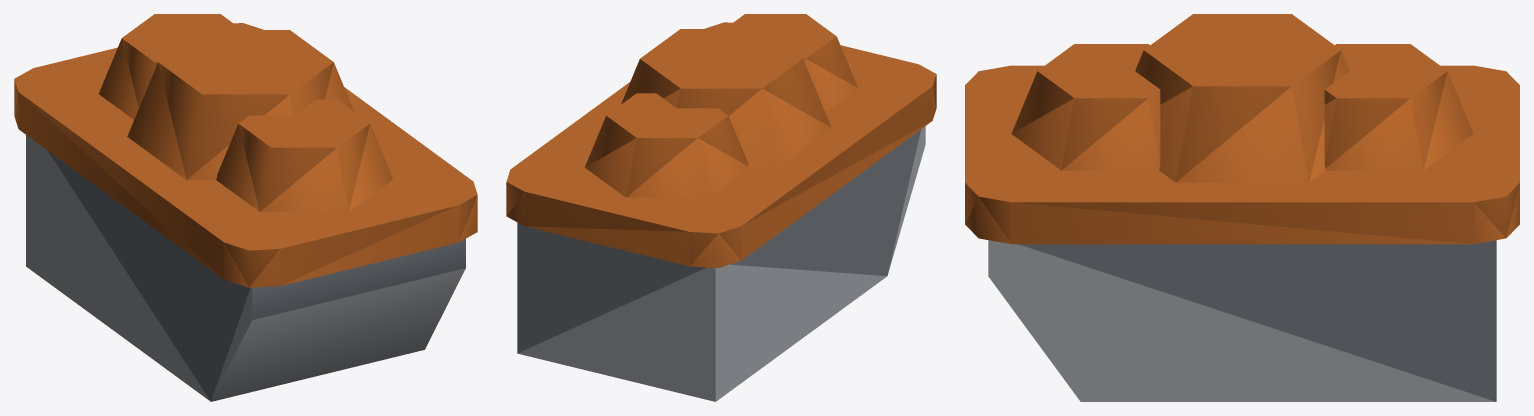
The model's file is Kit_skip-rocks.fbx.
3 views of the same model, side by side, from view 1: azimuth 30°, elevation 25°; view 2: azimuth 150°, elevation 25°; view 3: azimuth 270°, elevation 25° (orthographic). The views are drawn at different scales.
Parts seen in each view (by area): view 1: Kit_skip-rocks; view 2: Kit_skip-rocks; view 3: Kit_skip-rocks.
Part boxes in pixels (x1,y1,x2,y2): Kit_skip-rocks: (14, 14, 477, 401); Kit_skip-rocks: (506, 14, 936, 401); Kit_skip-rocks: (965, 14, 1519, 401).
Size of the model in its own units: 0.7 by 0.7 by 1.2.
